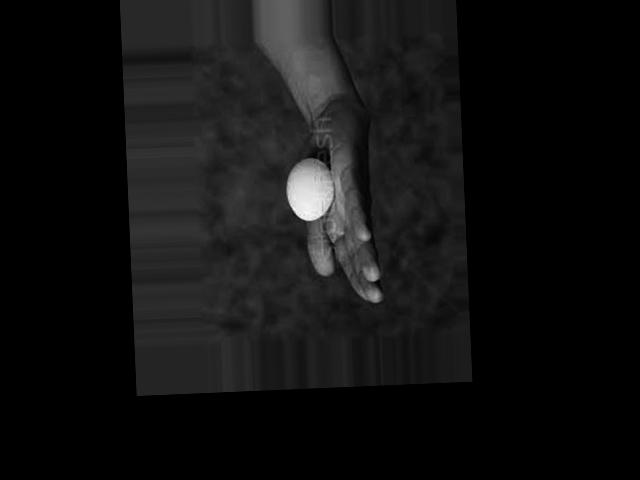egg: (283, 156, 335, 221)
